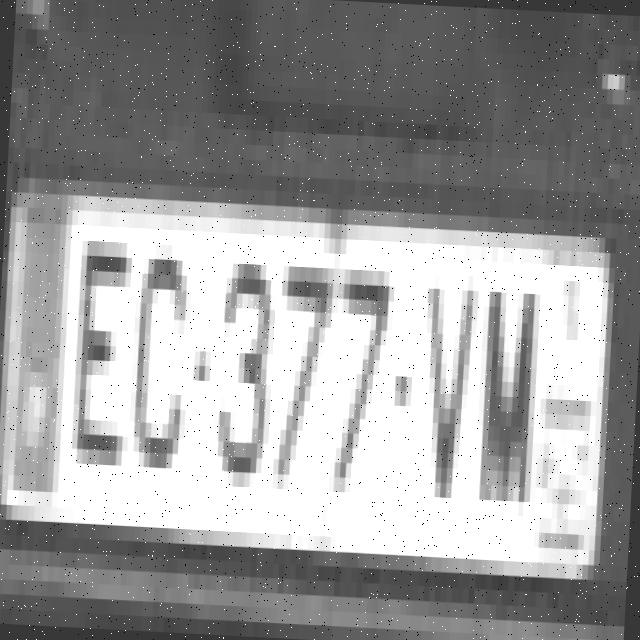EU: (0, 193, 615, 583)
France: (12, 205, 70, 500)
